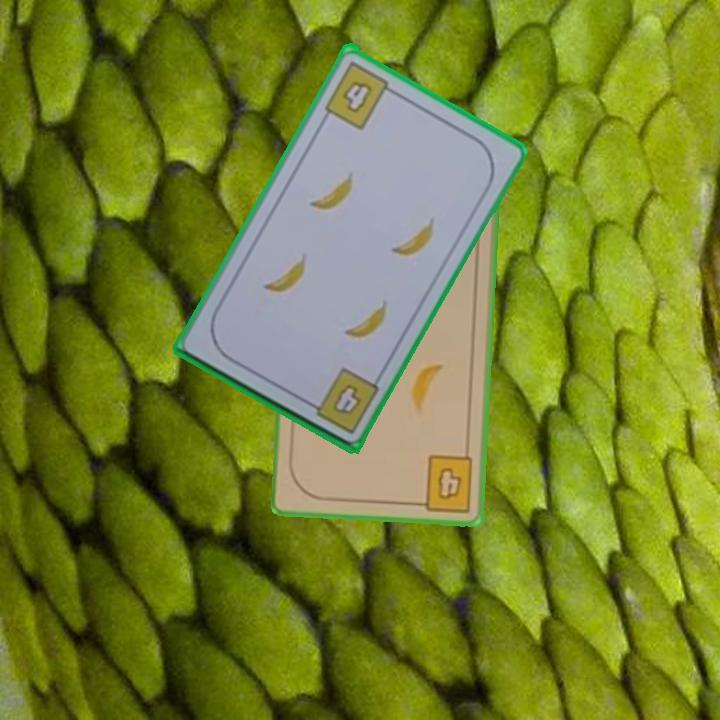4b: (320, 56, 400, 132), (411, 452, 476, 515), (328, 379, 365, 418)
